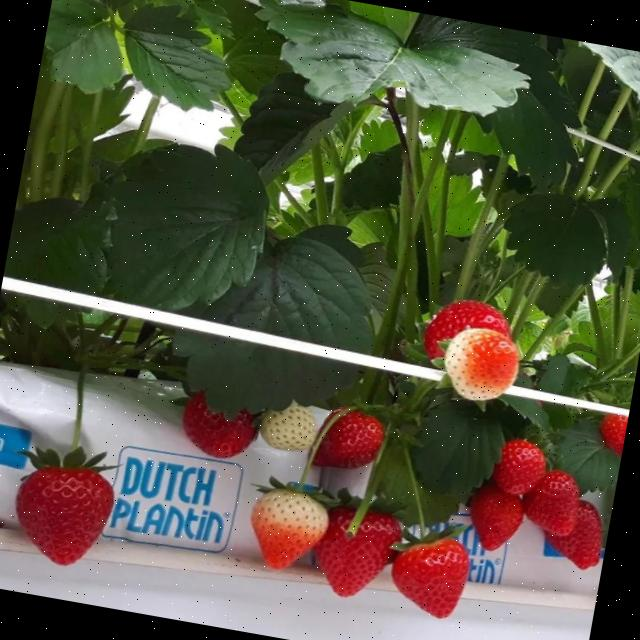Ripe Strawberry: (0, 424, 130, 576), (406, 277, 534, 413), (312, 502, 404, 616), (393, 515, 476, 640), (180, 378, 265, 471), (309, 402, 385, 482), (446, 485, 526, 556), (522, 457, 586, 540), (558, 490, 613, 580), (486, 429, 550, 495), (596, 406, 628, 449)
